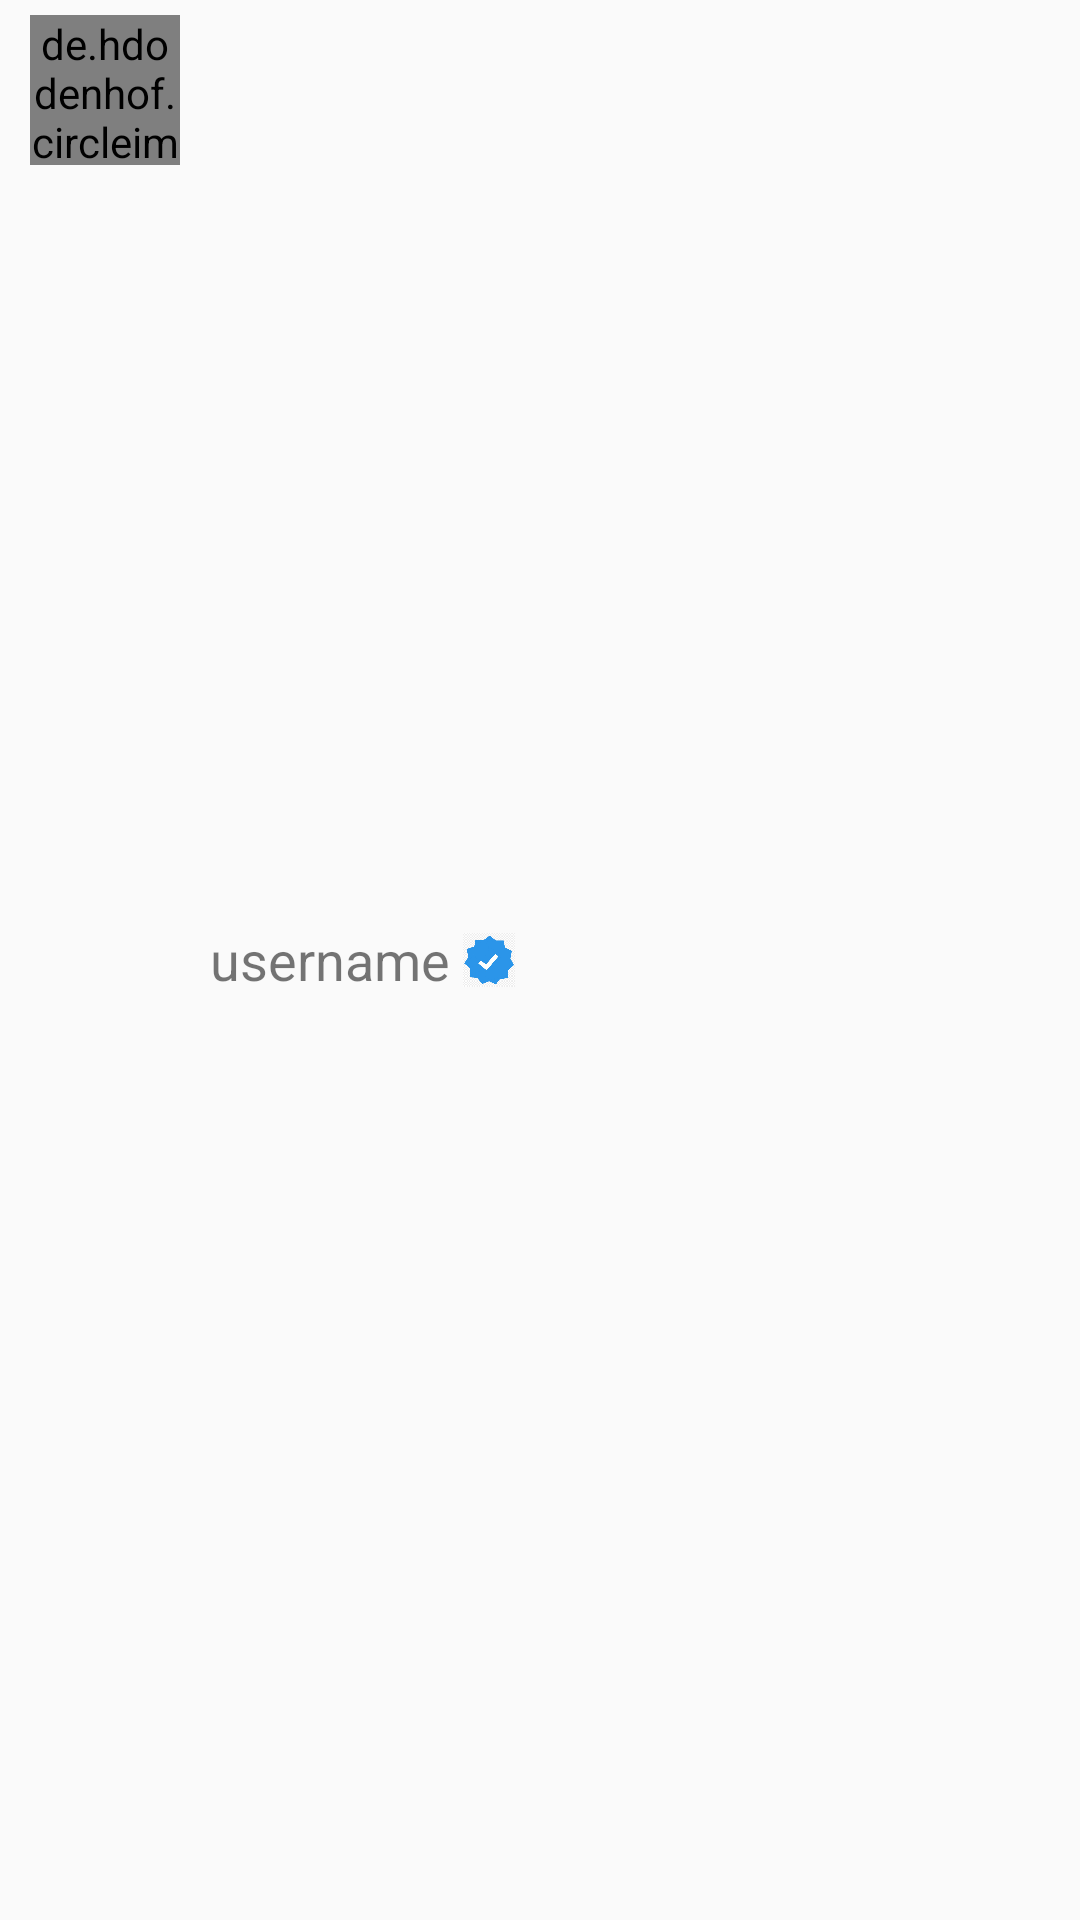

Locate icon controls on the screen. Image size 1080px x 1920px, boxes as box(x1, y1, x2, y2).
verifieduser: box(464, 936, 514, 984)
